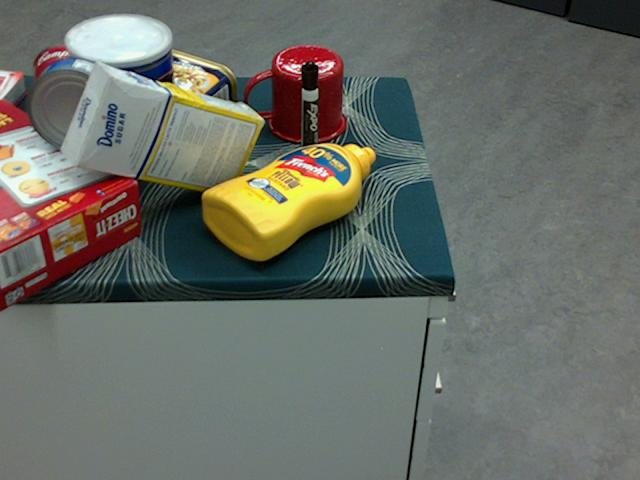cracker_box: (0, 100, 142, 306)
gelatin_box: (0, 70, 28, 130)
large_marker: (299, 60, 319, 166)
master_chef_can: (66, 15, 177, 182)
mug: (242, 45, 345, 144)
mustard_bottle: (201, 142, 375, 260)
potted_meat_can: (123, 50, 237, 139)
sugar_box: (62, 64, 264, 195)
tomato_soup_can: (33, 43, 96, 140)
tuna_fish_can: (26, 58, 123, 152)
